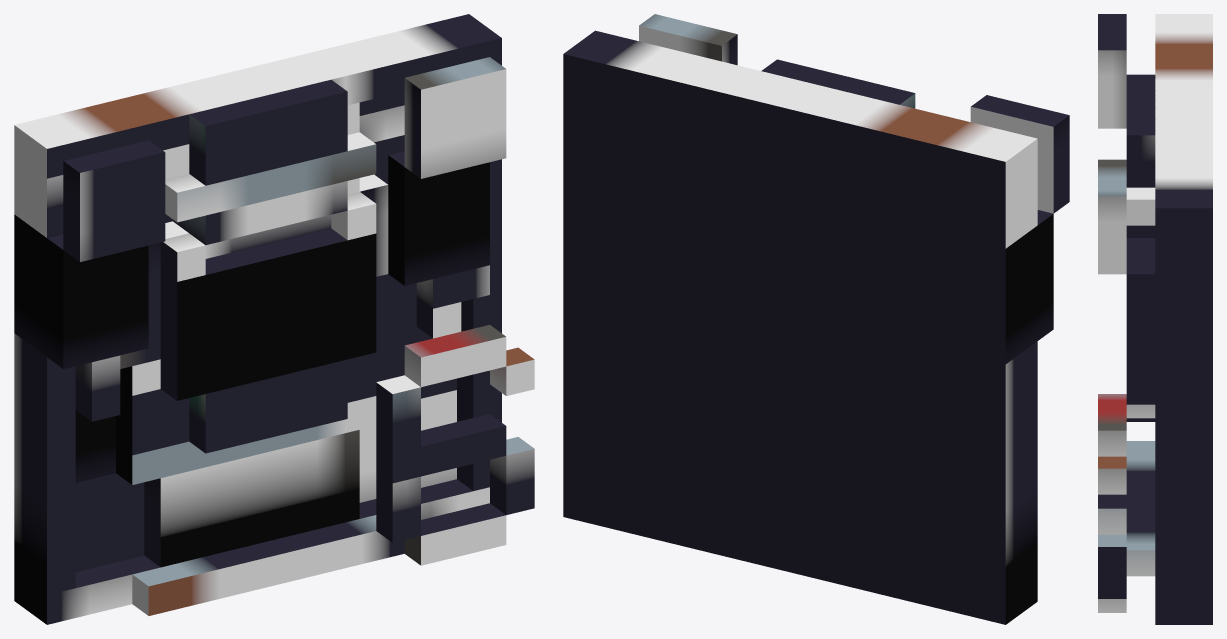
The model's file is hero6.fbx.
The picture shows the model from 3 angles, left to right: view 1: azimuth 30°, elevation 25°; view 2: azimuth 150°, elevation 25°; view 3: azimuth 270°, elevation 25°; orthographic projection. The views are drawn at different scales.
Visible parts, largest first — view 1: hero6; view 2: hero6; view 3: hero6.
Boxes of the visible parts, x1,y1,x2,y2 form: hero6: (14,14,534,624); hero6: (563,14,1069,624); hero6: (1098,14,1212,624).
Bounding box in the file's own units: 16 × 16 × 4.
